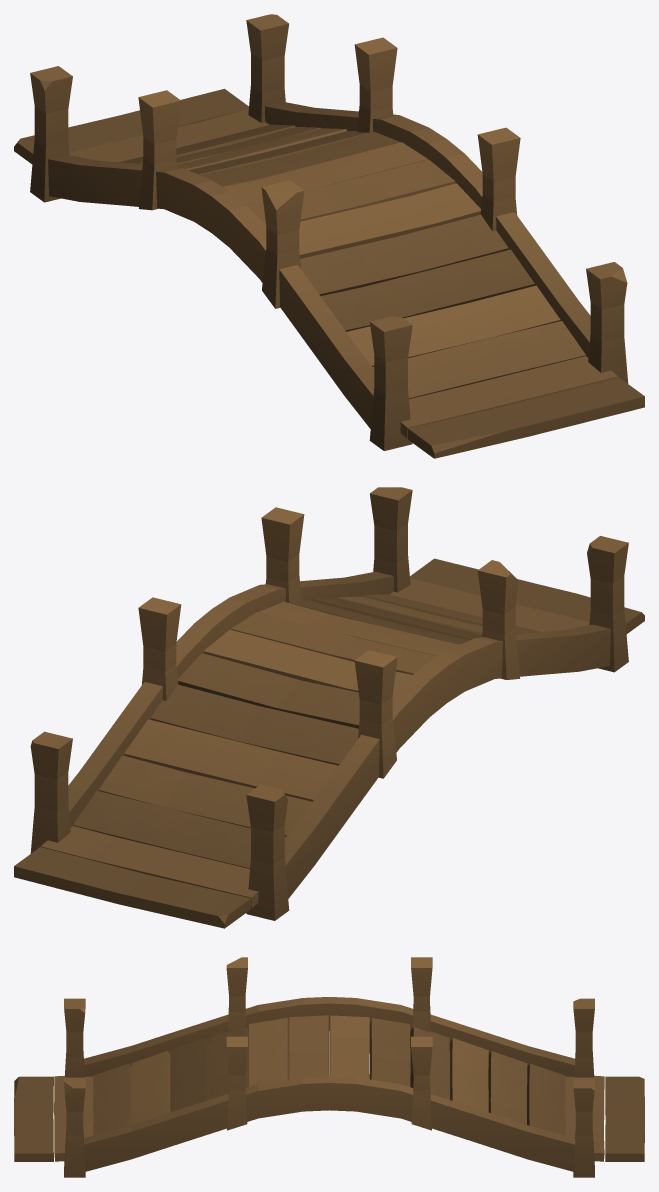
File: Bridge.fbx
3 views of the same model, one above another, from view 1: azimuth 30°, elevation 25°; view 2: azimuth 150°, elevation 25°; view 3: azimuth 270°, elevation 25° (orthographic). The views are drawn at different scales.
Visible parts, largest first — view 1: Cube.031; view 2: Cube.031; view 3: Cube.031.
Boxes of the visible parts, x1,y1,x2,y2 form: Cube.031: (14,14,644,458); Cube.031: (14,487,644,928); Cube.031: (14,957,644,1177).
Size of the model in its own units: 482 by 328 by 1436.
